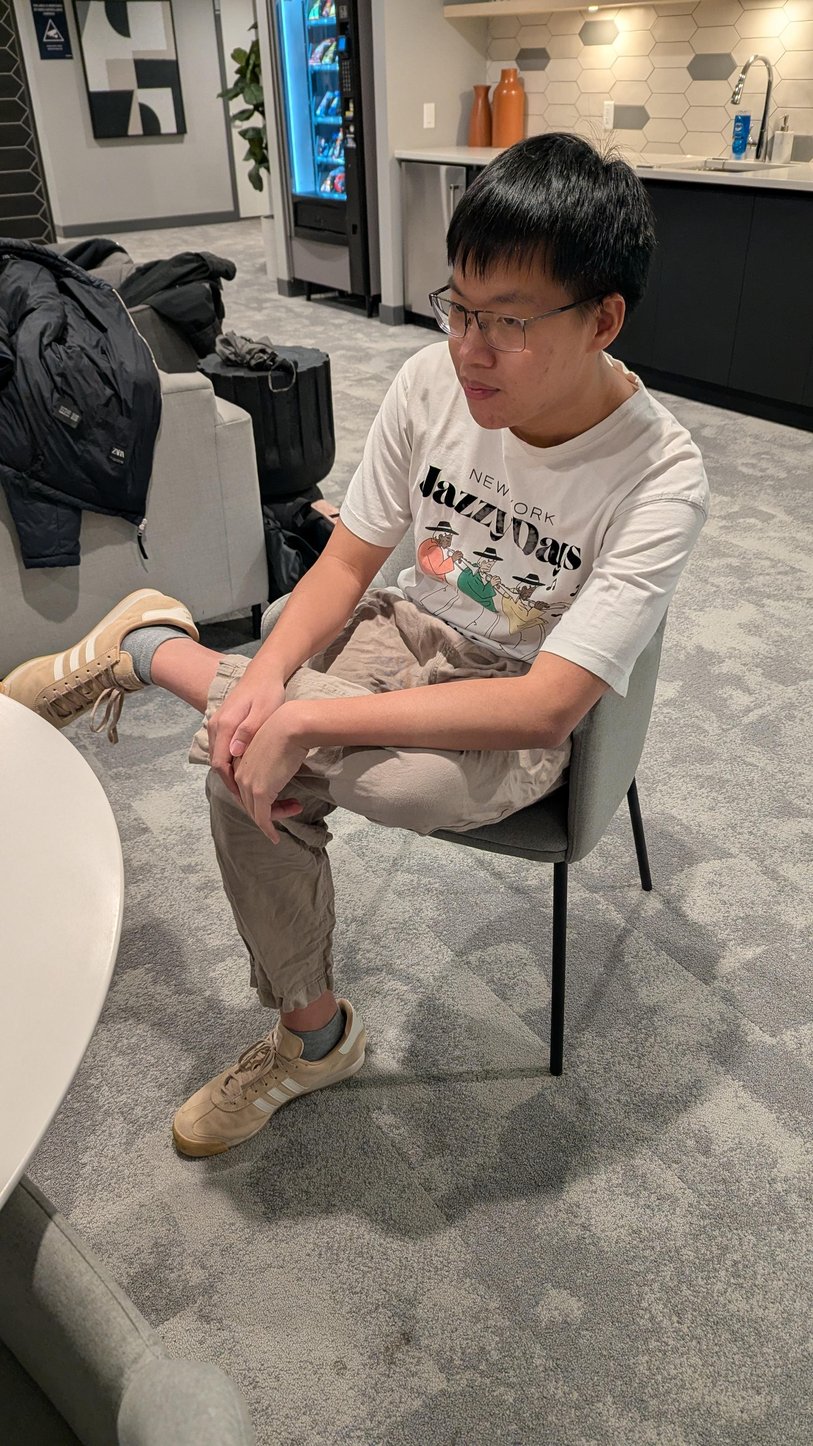BadPosture: (1, 133, 712, 1156)
